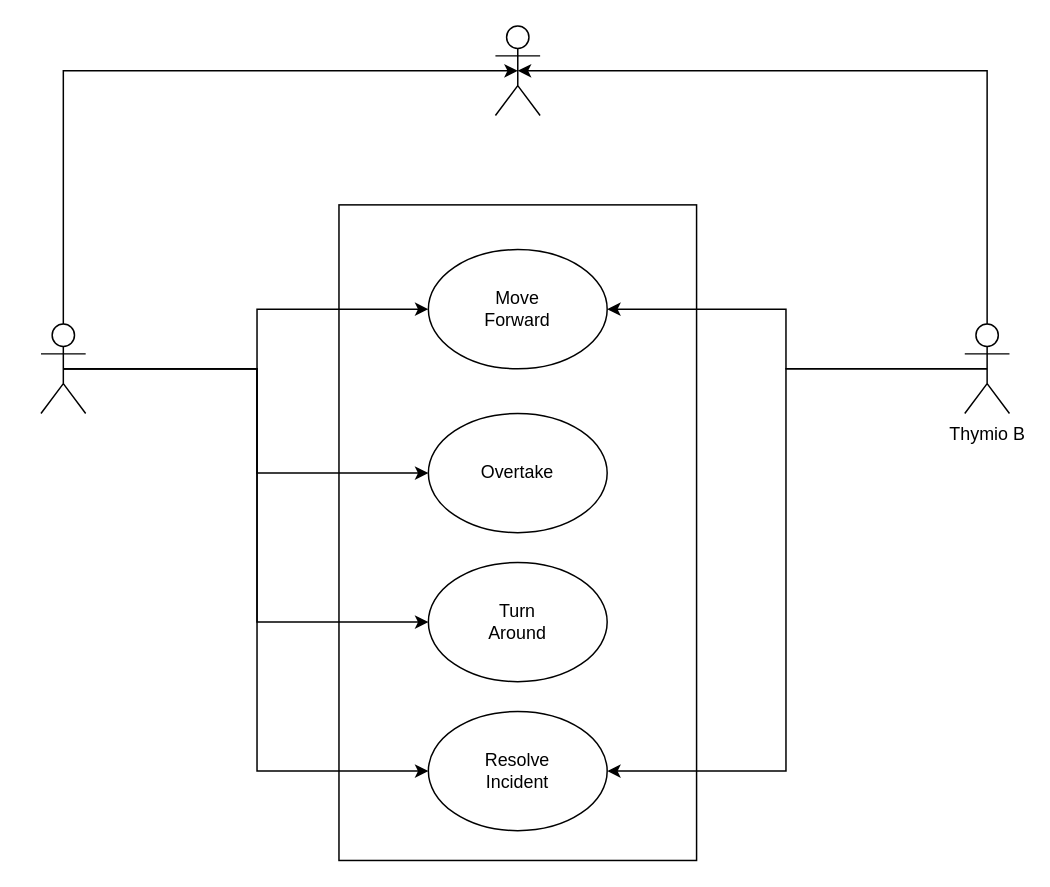
Image size: 1050x887. Some labels were removed from this diagram. Each missing label, with the centre of its shape:
Thymio: pixel 517 70
Thymio A: pixel 62 368
